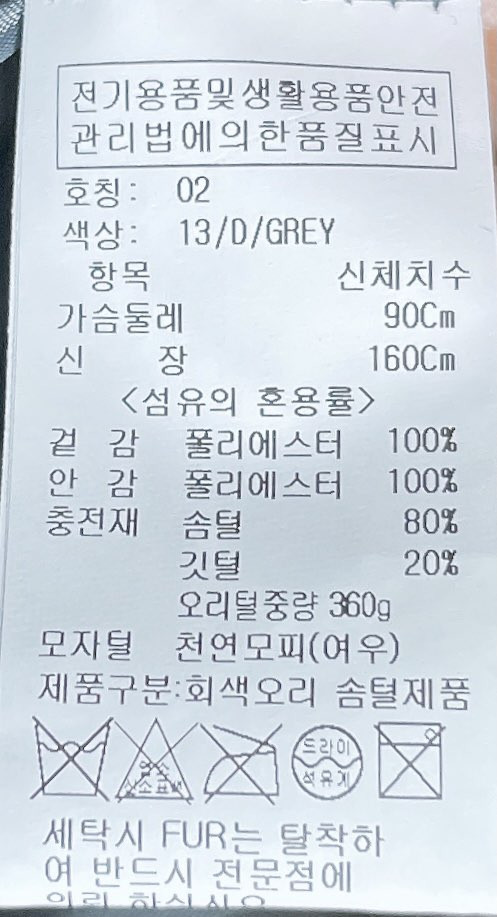KR_dry_clean_petroleum: (290, 719, 366, 801)
KR_no_bleach: (117, 718, 192, 808)
KR_no_iron: (203, 721, 281, 810)
KR_no_tumble_dry: (369, 717, 450, 808)
KR_no_wash: (30, 716, 113, 802)
